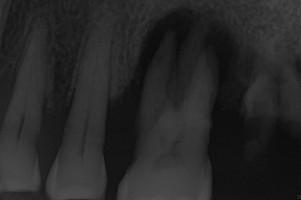Dental Caries: (122, 3, 258, 110)
